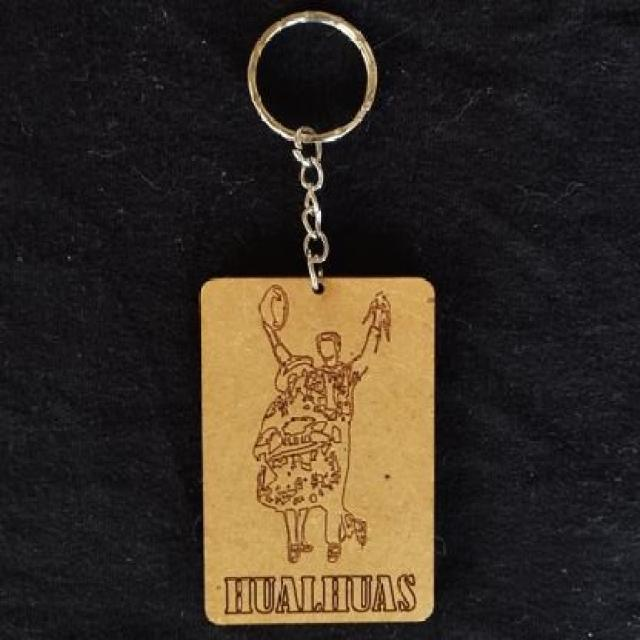Llavero: (249, 284, 389, 564)
